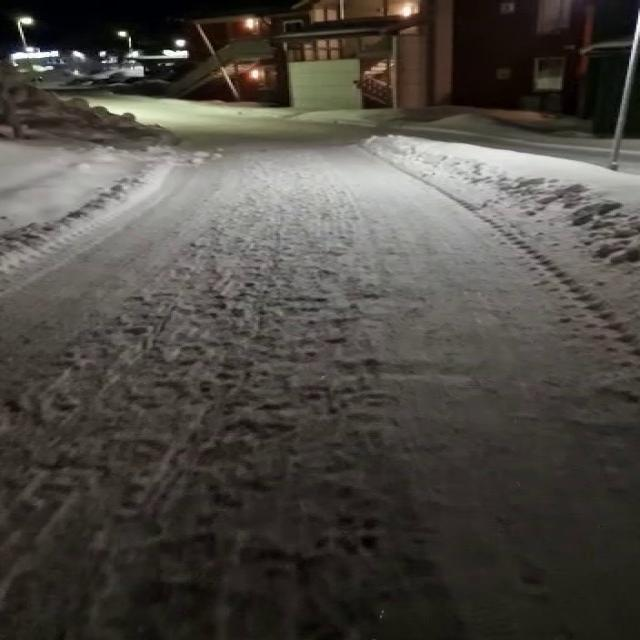path: (2, 98, 640, 640)
